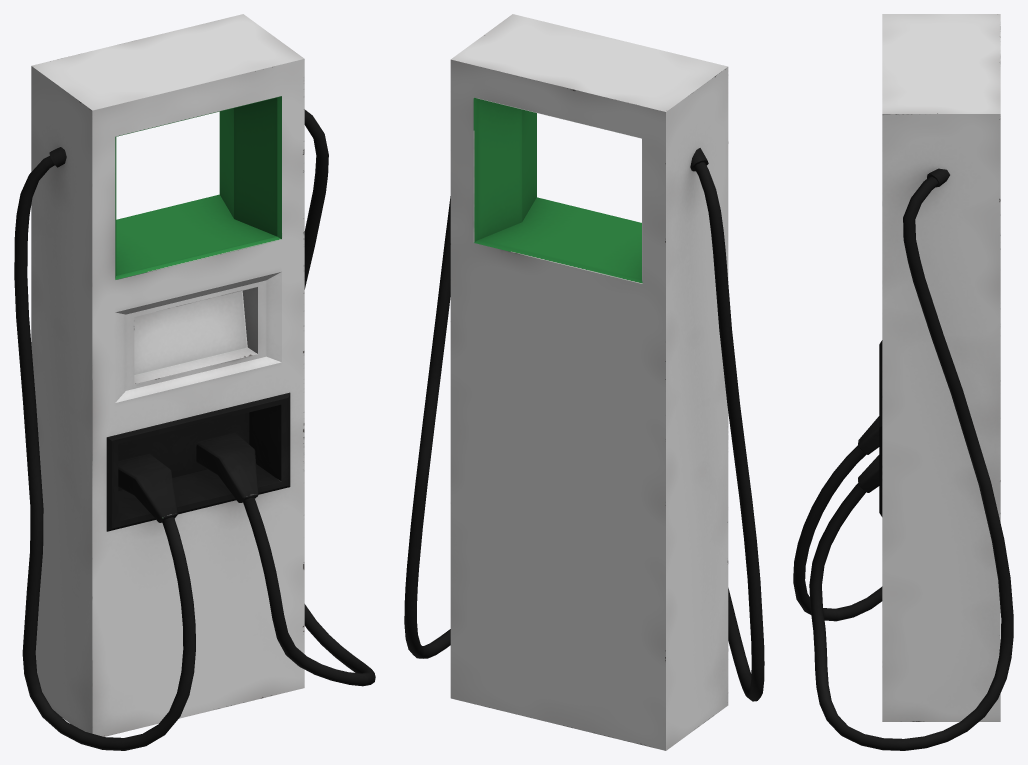
The model's file is SM_ChongDianZhuang.fbx.
The picture shows the model from 3 angles, left to right: view 1: azimuth 30°, elevation 25°; view 2: azimuth 150°, elevation 25°; view 3: azimuth 270°, elevation 25°; orthographic projection. The views are drawn at different scales.
Parts seen in each view (by area): view 1: SM_ChongDianZhuang; view 2: SM_ChongDianZhuang; view 3: SM_ChongDianZhuang.
Boxes of the visible parts, <box> form: SM_ChongDianZhuang: <box>14,14,375,750</box>; SM_ChongDianZhuang: <box>404,14,764,750</box>; SM_ChongDianZhuang: <box>793,14,1013,750</box>.
Bounding box in the file's own units: 0.9211 × 1.7 × 0.5571.
